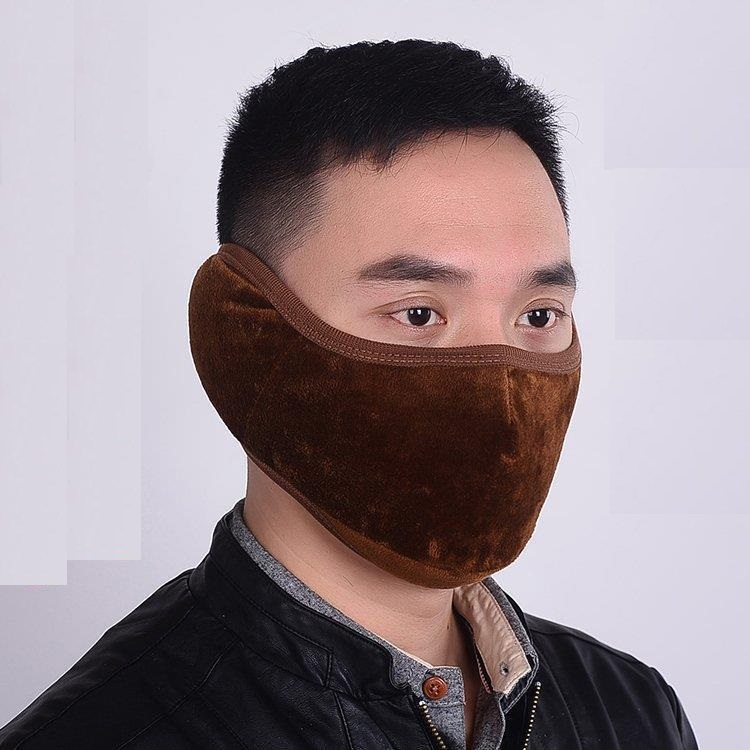face_mask: (294, 139, 584, 544)
